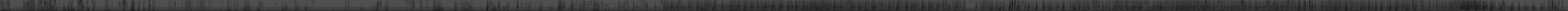Moan: (1462, 0, 1465, 11), (1467, 0, 1470, 11), (1473, 0, 1475, 11)
